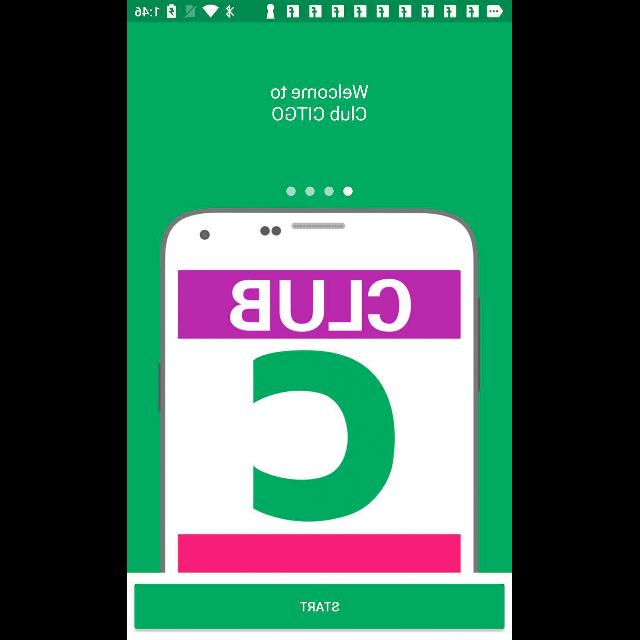image: (160, 208, 480, 572)
pageindicator: (286, 186, 354, 196)
text: (271, 85, 369, 122)
textbutton: (135, 584, 505, 628)
uppertaskbar: (128, 1, 512, 23)
